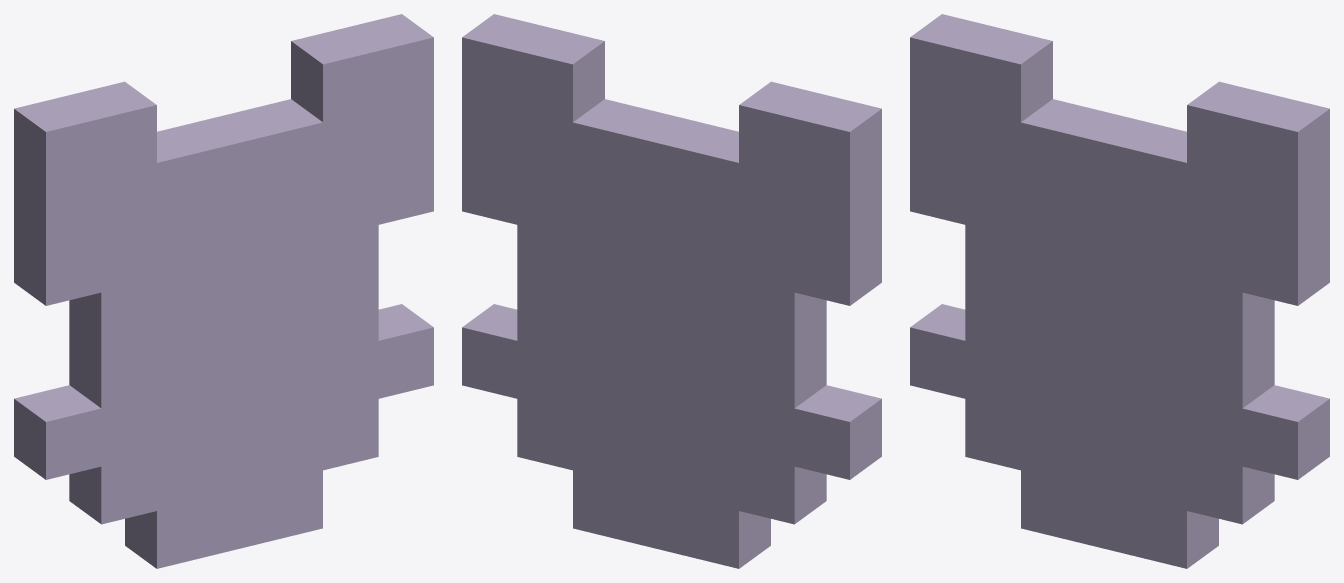
Rendered from Breastplate-Grey.vox.obj.
3 renders of one model, left to right at view 1: azimuth 30°, elevation 25°; view 2: azimuth 150°, elevation 25°; view 3: azimuth 330°, elevation 25°, orthographic.
Bounding box in the file's own units: 0.7 × 0.8 × 0.1.
Materials: 1 (1 with a texture image).
